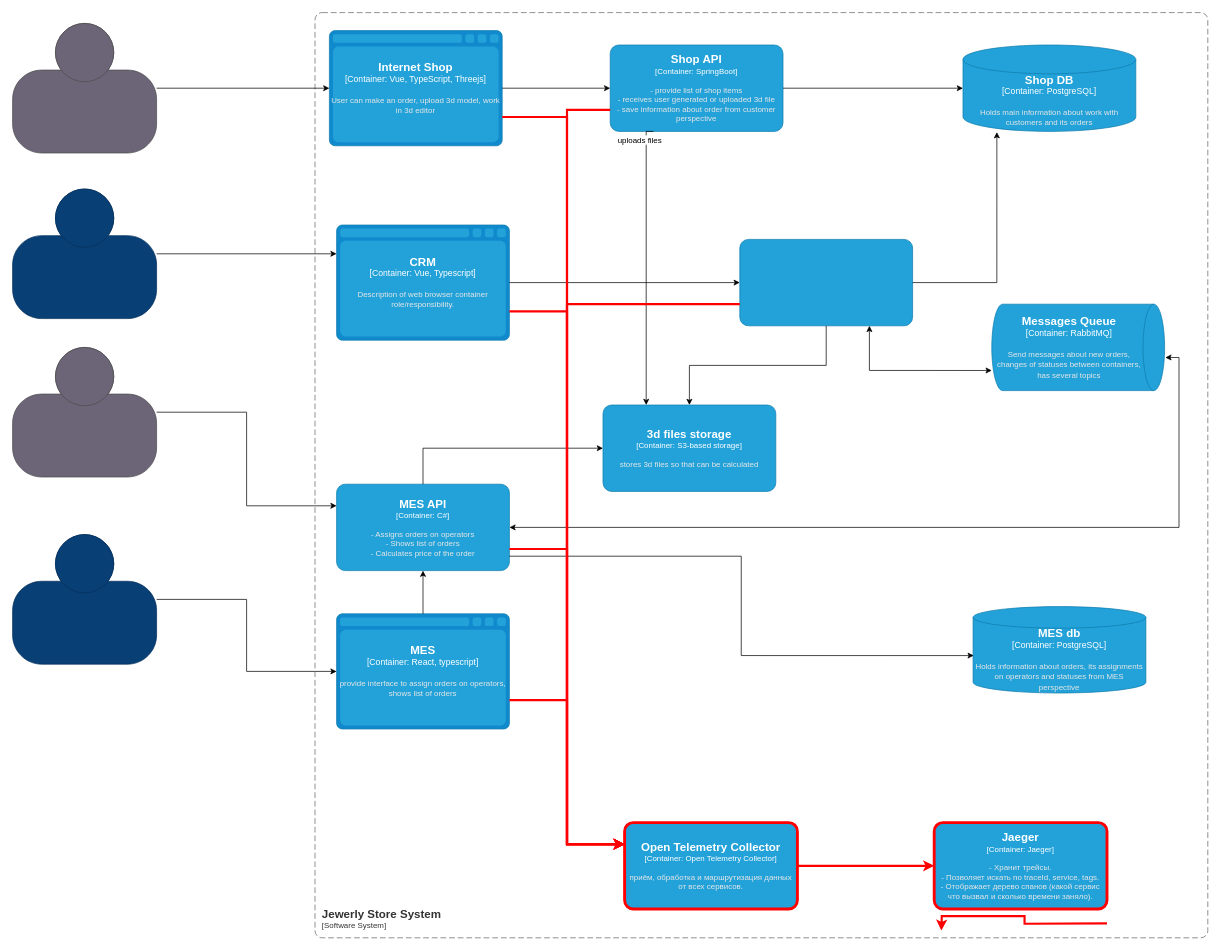
Image size: 1220x950. Some labels were removed from this diagram. Here are the shapes that lost their labels. From the top down, the centre of each, then its label:
At pixel 84 88: "Customer [Person] Description of external person.".
At pixel 84 253: "Seller [Person] Operates with order, confirms manufacturing for the user".
At pixel 826 282: "CRM API [Container: SpringBoot] Description of container role/responsibility.".
At pixel 84 412: "API user [Person] Description of external person.".
At pixel 84 599: "Operator [Person] Takes order in work, manufactures jewerly".
